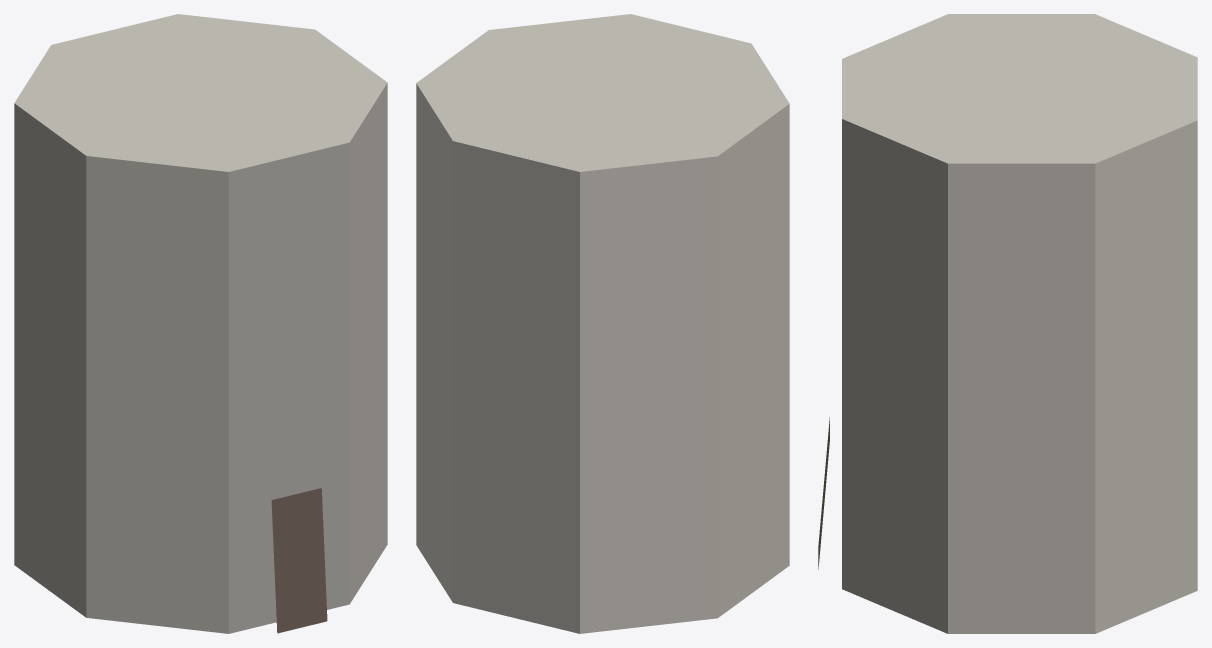
File: loin-etape-1.glb
The picture shows the model from 3 angles, left to right: view 1: azimuth 30°, elevation 25°; view 2: azimuth 150°, elevation 25°; view 3: azimuth 270°, elevation 25°; orthographic projection.
Parts seen in each view (by area): view 1: loin; view 2: loin; view 3: loin.
Part boxes in pixels (x1=…): loin: x1=14, y1=14, x2=387, y2=633; loin: x1=416, y1=14, x2=789, y2=633; loin: x1=818, y1=14, x2=1197, y2=633.
Size of the model in its own units: 0.3603 by 0.528 by 0.386.
